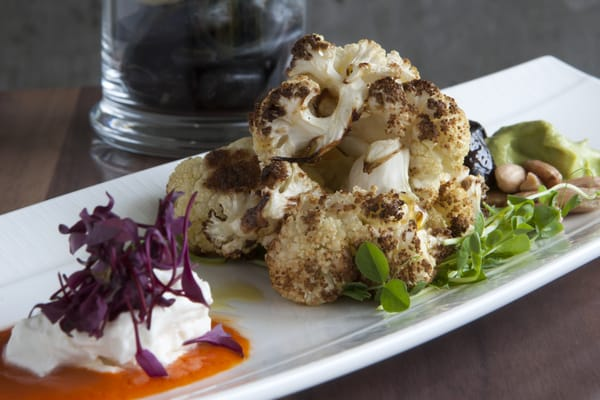pizza: (87, 0, 306, 159)
